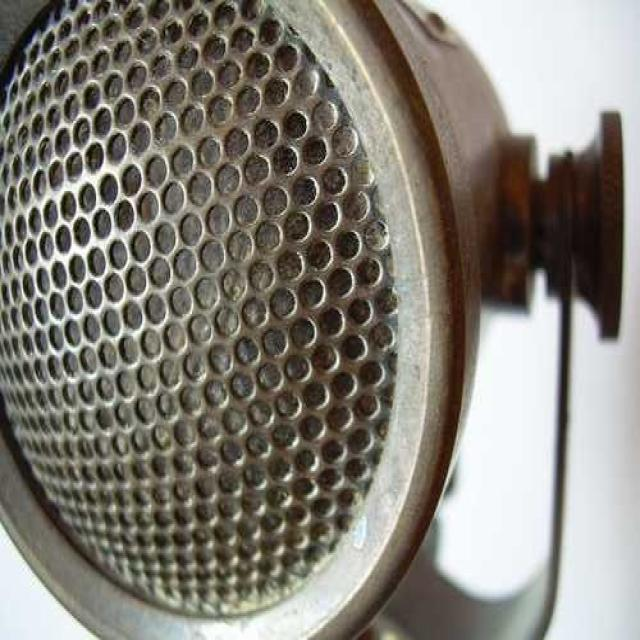microphone: (10, 5, 484, 619)
